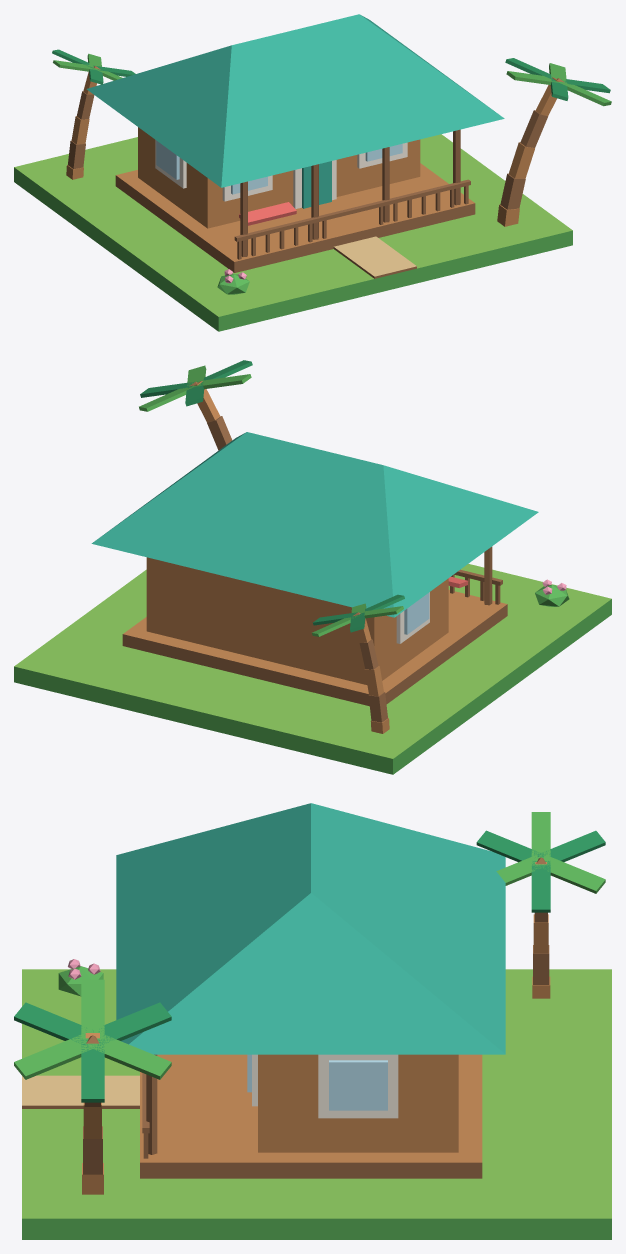
Rendered from house_bungalow.glb.
3 renders of one model, top to bottom at view 1: azimuth 30°, elevation 25°; view 2: azimuth 150°, elevation 25°; view 3: azimuth 270°, elevation 25°, orthographic. The views are drawn at different scales.
Parts seen in each view (by area): view 1: house_bungalow; view 2: house_bungalow; view 3: house_bungalow.
Boxes of the visible parts, <box> form: house_bungalow: <box>14,14,611,331</box>; house_bungalow: <box>14,360,611,774</box>; house_bungalow: <box>14,803,611,1239</box>.
Size of the model in its own units: 1.16 by 0.5023 by 1.01.
